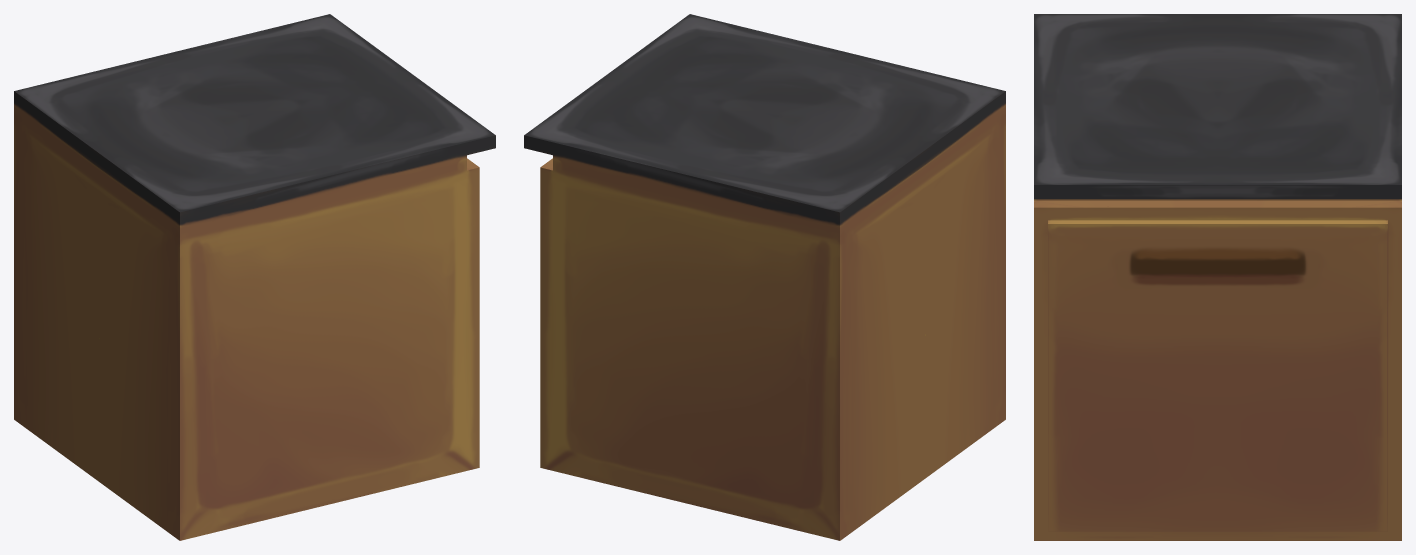
File: Meson.fbx
3 renders of one model, left to right at view 1: azimuth 30°, elevation 25°; view 2: azimuth 150°, elevation 25°; view 3: azimuth 270°, elevation 25°, orthographic. The views are drawn at different scales.
Visible parts, largest first — view 1: Cube.003; view 2: Cube.003; view 3: Cube.003.
Boxes of the visible parts, <box> form: Cube.003: <box>14,14,495,540</box>; Cube.003: <box>524,14,1005,540</box>; Cube.003: <box>1034,14,1401,540</box>.
Bounding box in the file's own units: 998 × 992 × 907.
